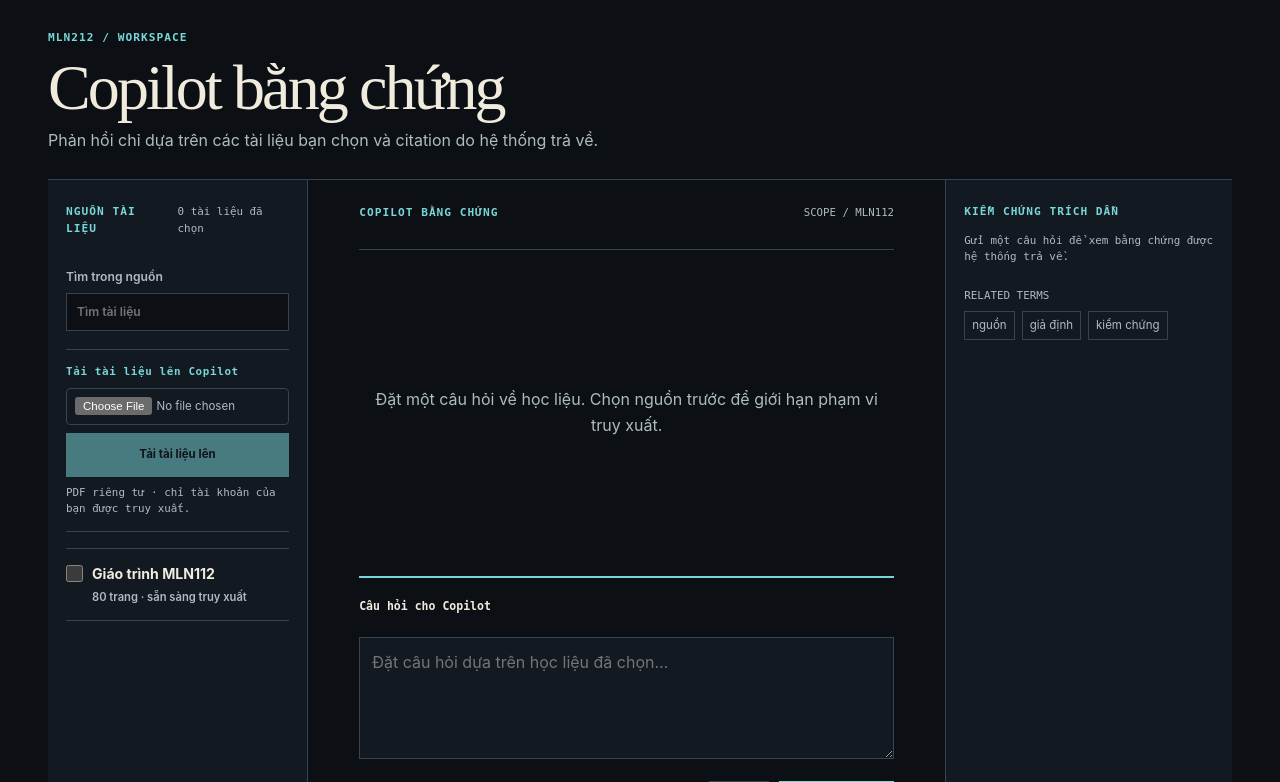
Test case: CopilotPage › renders the three-column evidence workspace and selects a real source row
This screenshot has width=1280, height=782.
What coordinates should you click on to do the following:
click the checkbox labelled "Giáo trình MLN112 80 trang · sẵn sàng truy xuất"
I would click on:
 (74, 574)
Its box is [66,565,83,582].
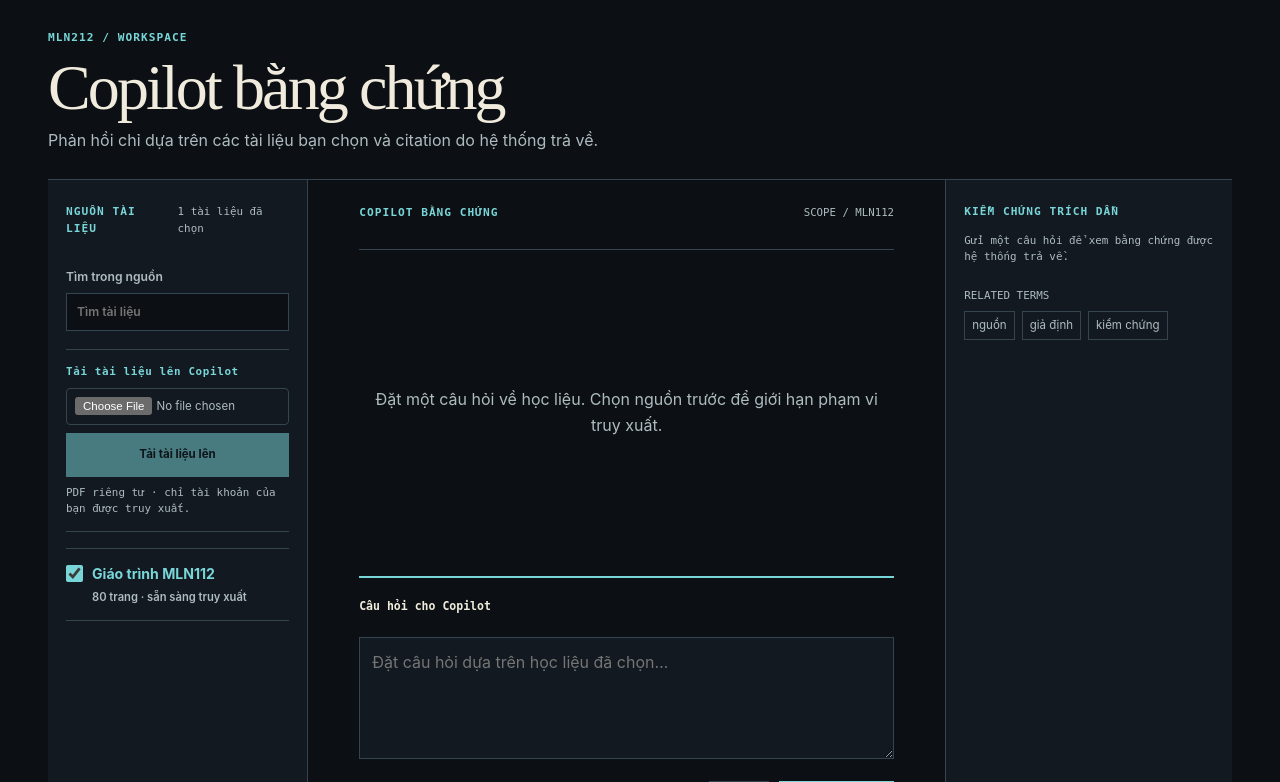
Check: the checkbox labelled "Giáo trình MLN112 80 trang · sẵn sàng truy xuất" is checked, box [66,565,83,582]
Check: the text "1 tài liệu đã chọn" is shown, box [178,205,263,234]
